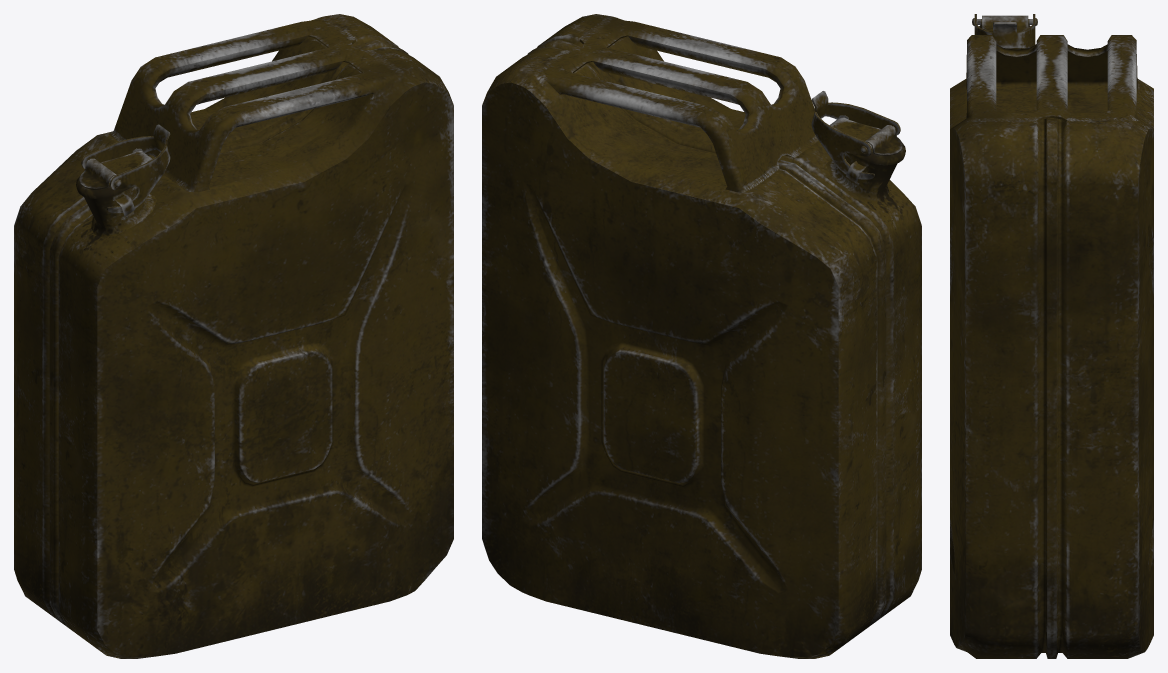
The model's file is fuel_can.glb.
3 renders of one model, left to right at view 1: azimuth 30°, elevation 25°; view 2: azimuth 150°, elevation 25°; view 3: azimuth 270°, elevation 25°, orthographic. The views are drawn at different scales.
Visible parts, largest first — view 1: sg_uv; view 2: sg_uv; view 3: sg_uv.
Boxes of the visible parts, <box> form: sg_uv: <box>14,14,453,658</box>; sg_uv: <box>482,14,921,658</box>; sg_uv: <box>950,14,1153,658</box>.
Size of the model in its own units: 13.45 by 18.38 by 6.37.
Materials: 1 (1 with a texture image).
